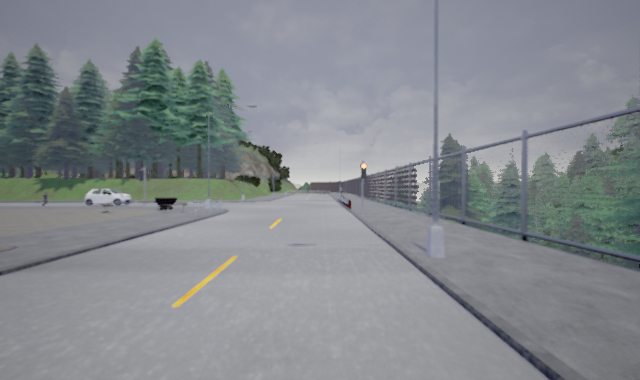pedestrian: (37, 190, 53, 206)
traffic_light: (362, 162, 367, 180)
vehicle: (84, 188, 131, 206)
